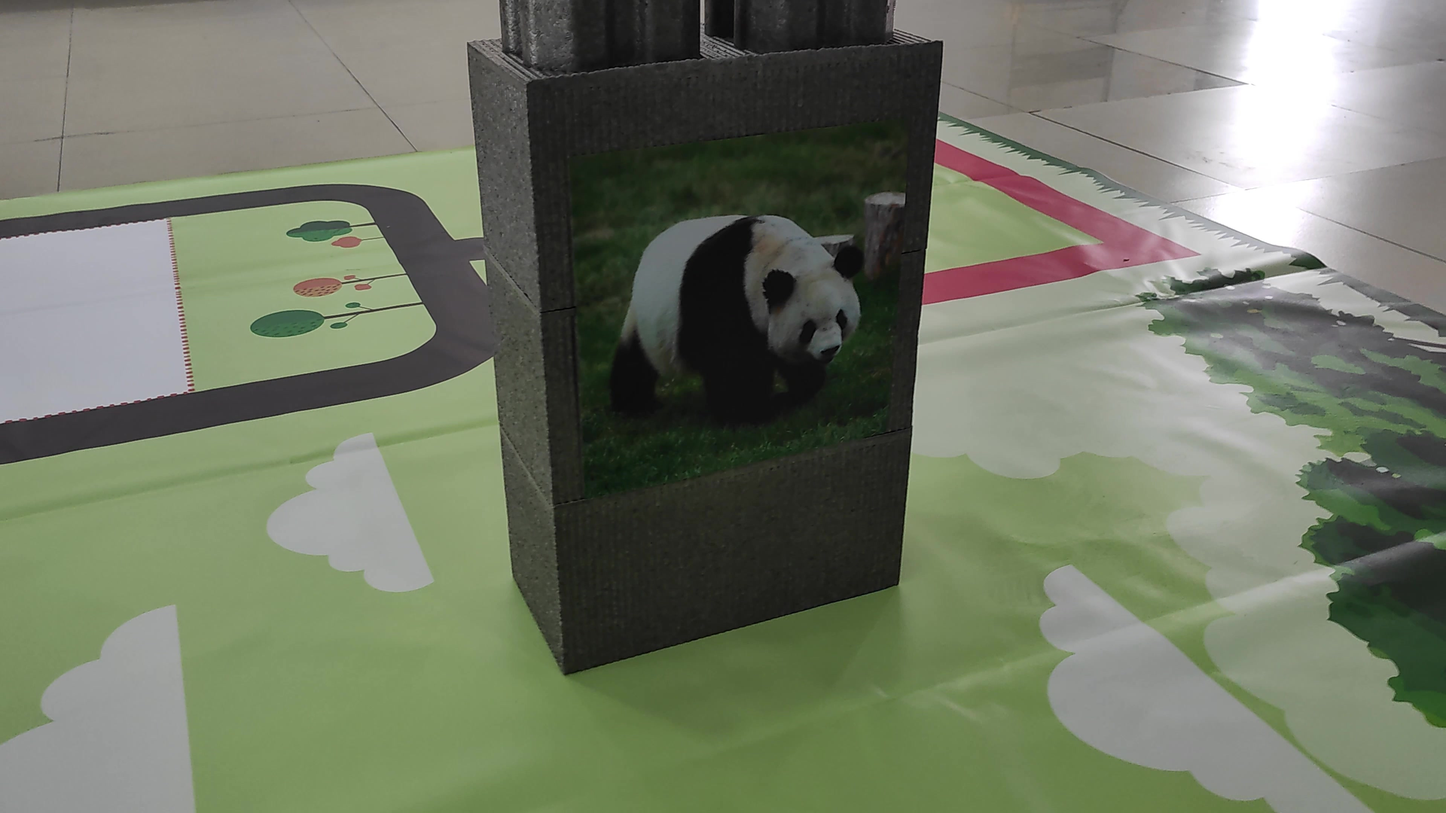panda: (584, 193, 909, 429)
